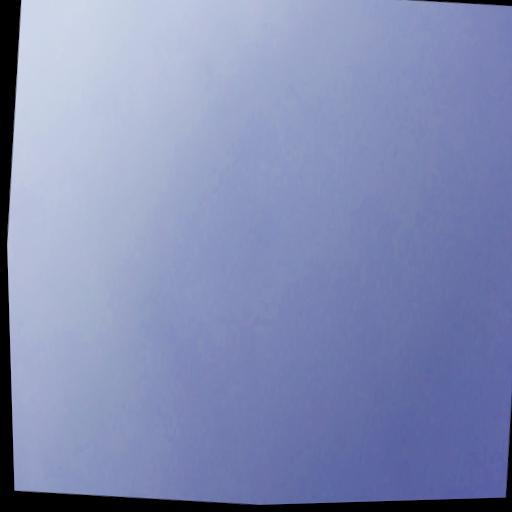drones: (298, 310, 304, 317)
